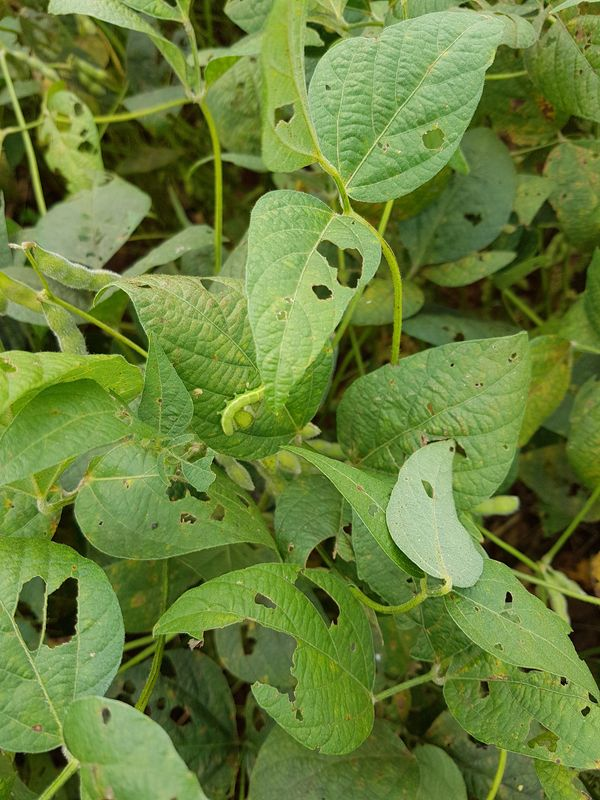Anticarsia_gemmatalis: (211, 376, 285, 443)
